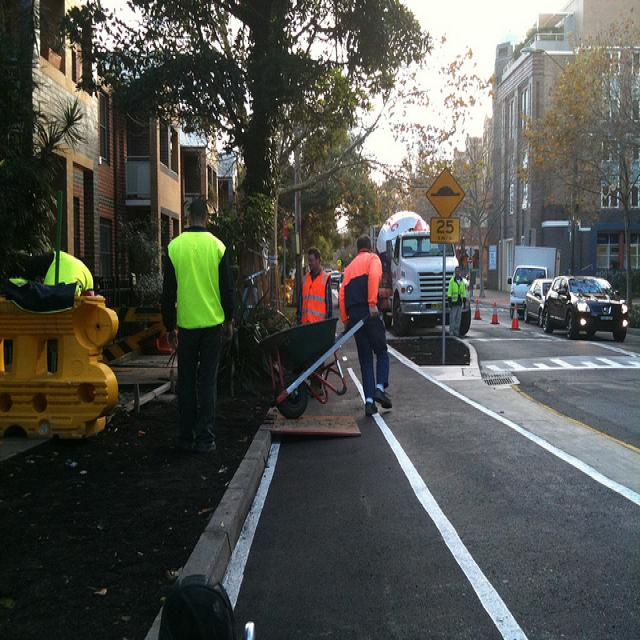Vehicle: (377, 205, 460, 340), (541, 275, 629, 342), (508, 244, 562, 318), (522, 280, 552, 326), (330, 270, 342, 282)
